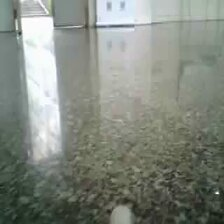w: (109, 204, 134, 224)
